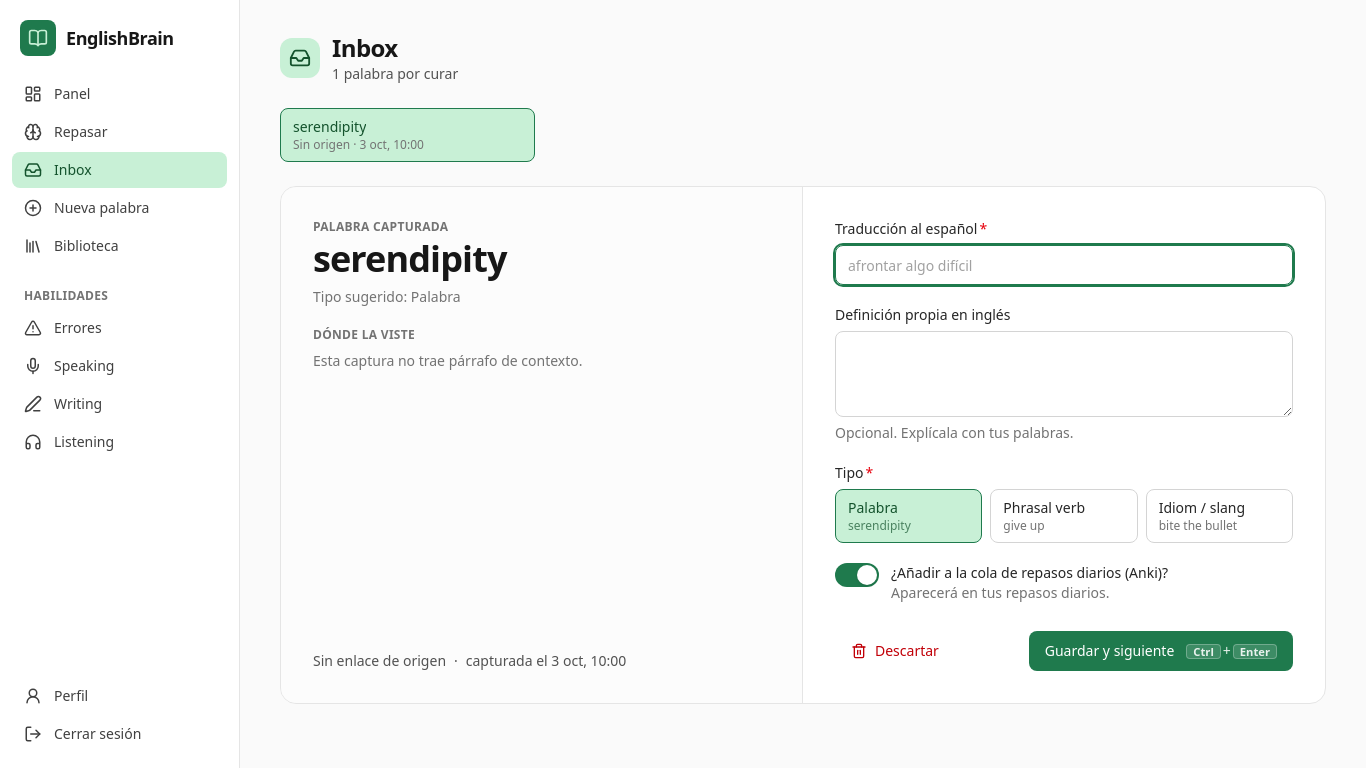
Scenario: 11.3 · Guardar con Ctrl+Enter, validar y descartar › al curar la última, el Inbox queda vacío
Type "casualidad" into the field labelled "Traducción al español*" at (1064, 265), box [835, 245, 1293, 285]
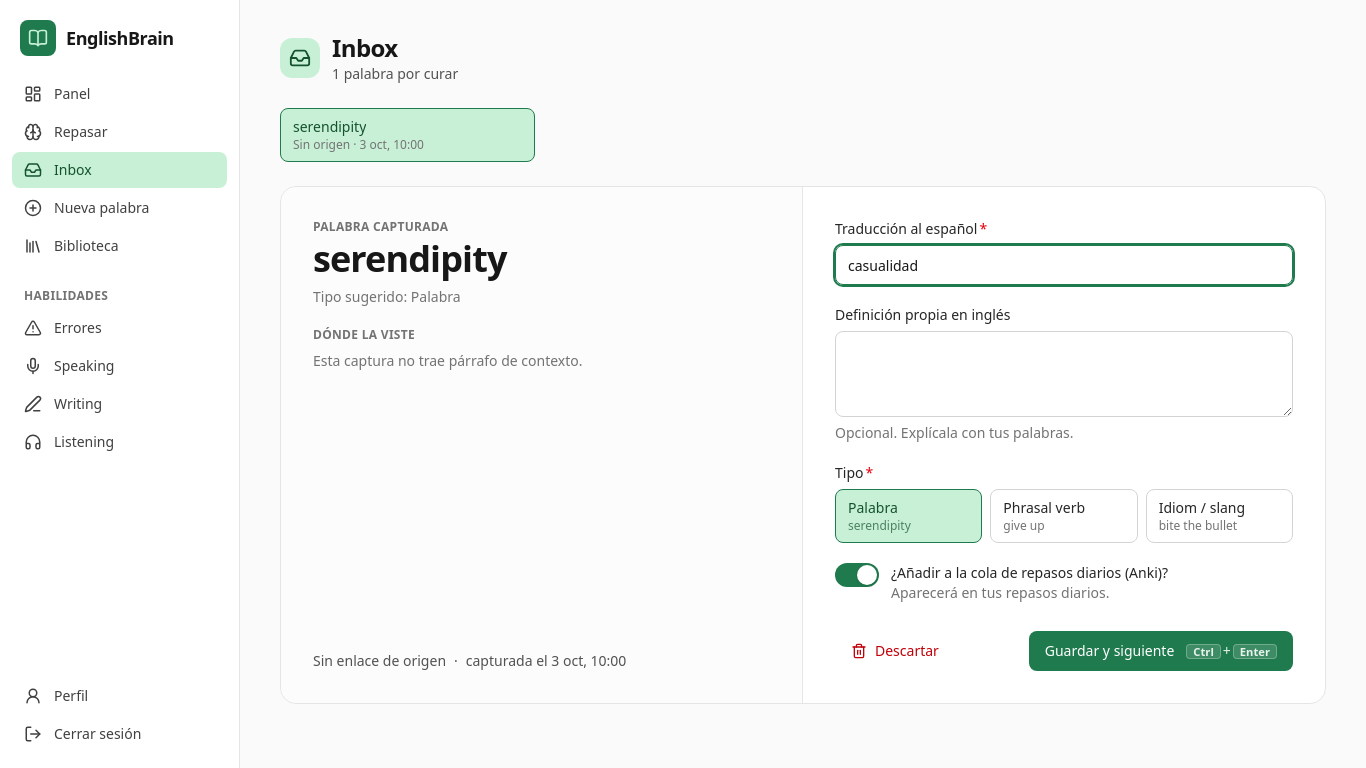
Type keys "{Control>}{Enter}{/Control}"
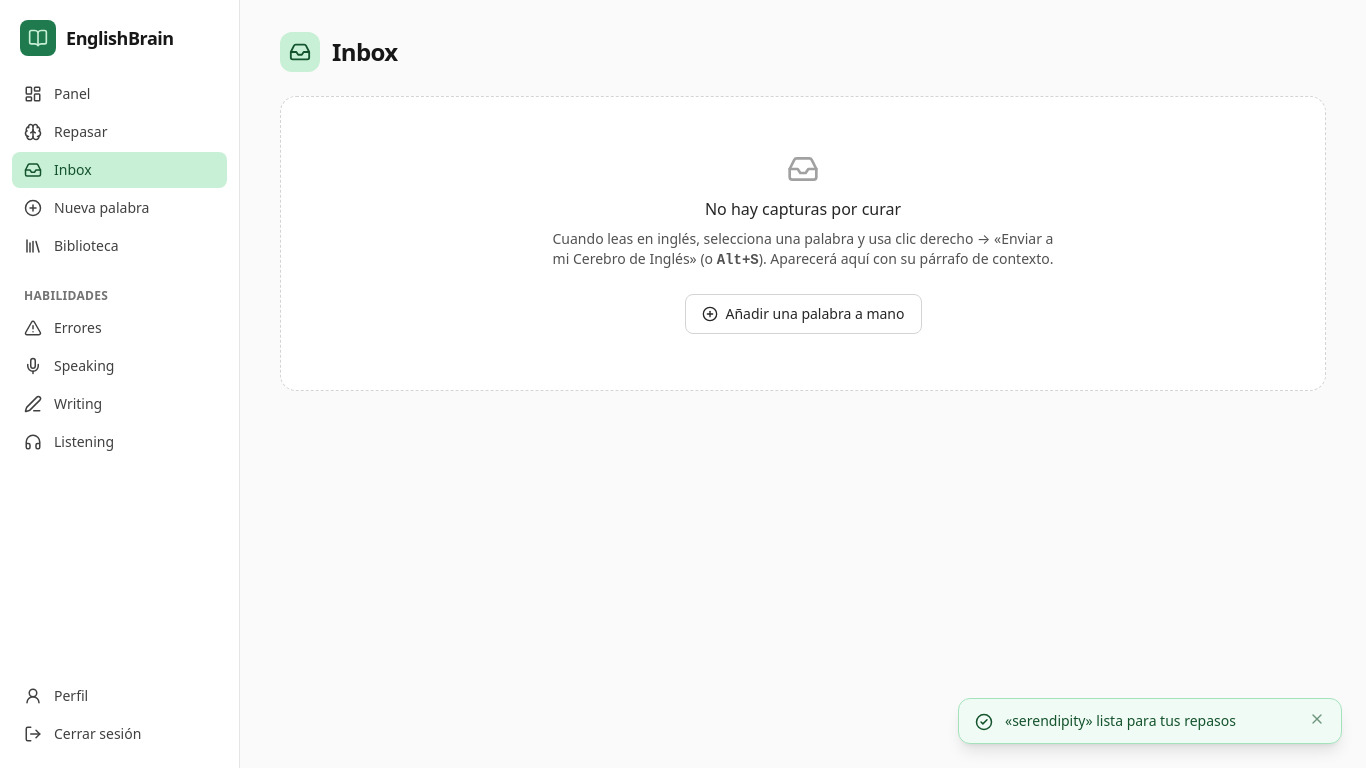
expect the text "No hay capturas por curar" is shown: met, box [705, 198, 901, 220]
